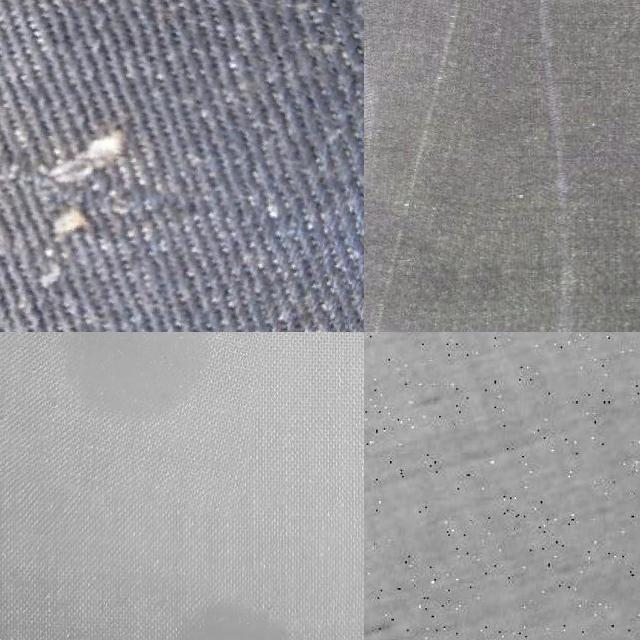Hole: (0, 332, 278, 509), (44, 524, 364, 640)
Thread_other: (365, 0, 543, 332)
